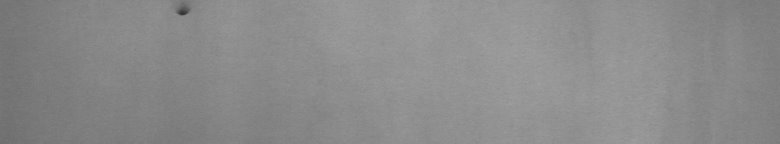fi: (173, 4, 192, 24)
